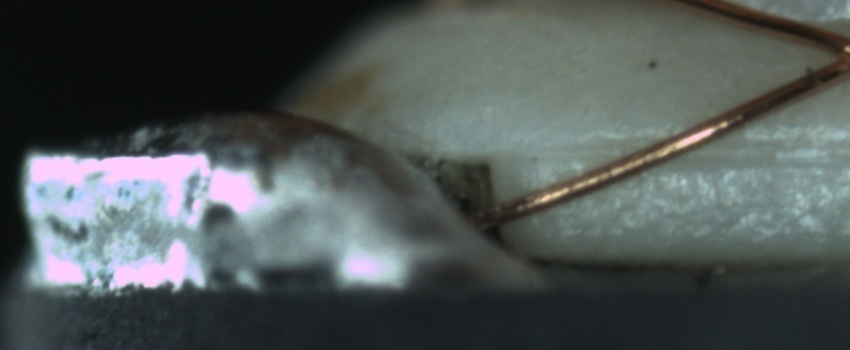CL: (802, 26, 850, 88)
DL: (531, 115, 846, 183)
